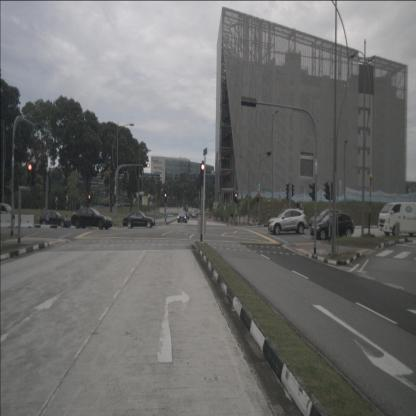vehicle-car: (378, 203, 416, 237), (310, 213, 354, 240), (268, 209, 306, 235), (71, 207, 113, 230), (309, 208, 346, 230), (122, 211, 155, 229), (40, 210, 72, 228), (0, 203, 15, 225), (177, 210, 188, 224), (184, 211, 190, 220)
